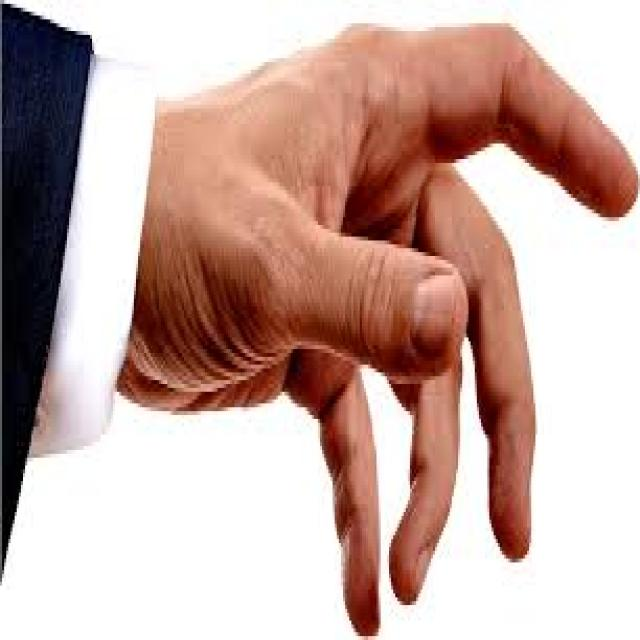hand: (152, 4, 640, 640)
